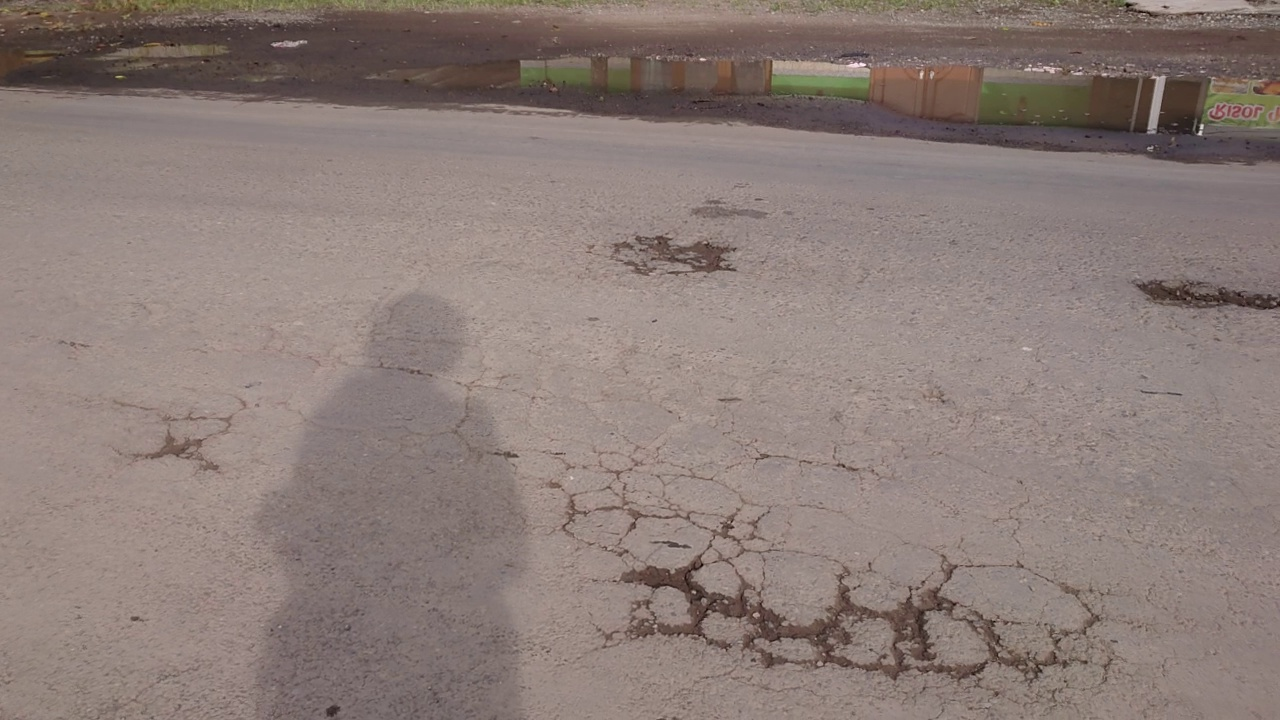Retak: (569, 479, 1103, 698), (1142, 272, 1275, 347), (615, 232, 739, 296), (148, 395, 238, 470)
